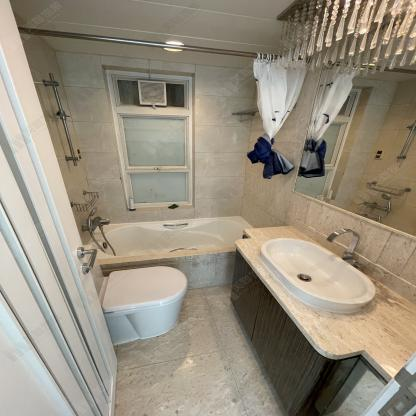Bathtub: (86, 216, 255, 290)
Exhaust Fan: (138, 79, 167, 106)
Toilet: (83, 244, 187, 347)
Toilet Sink: (260, 237, 375, 314)
